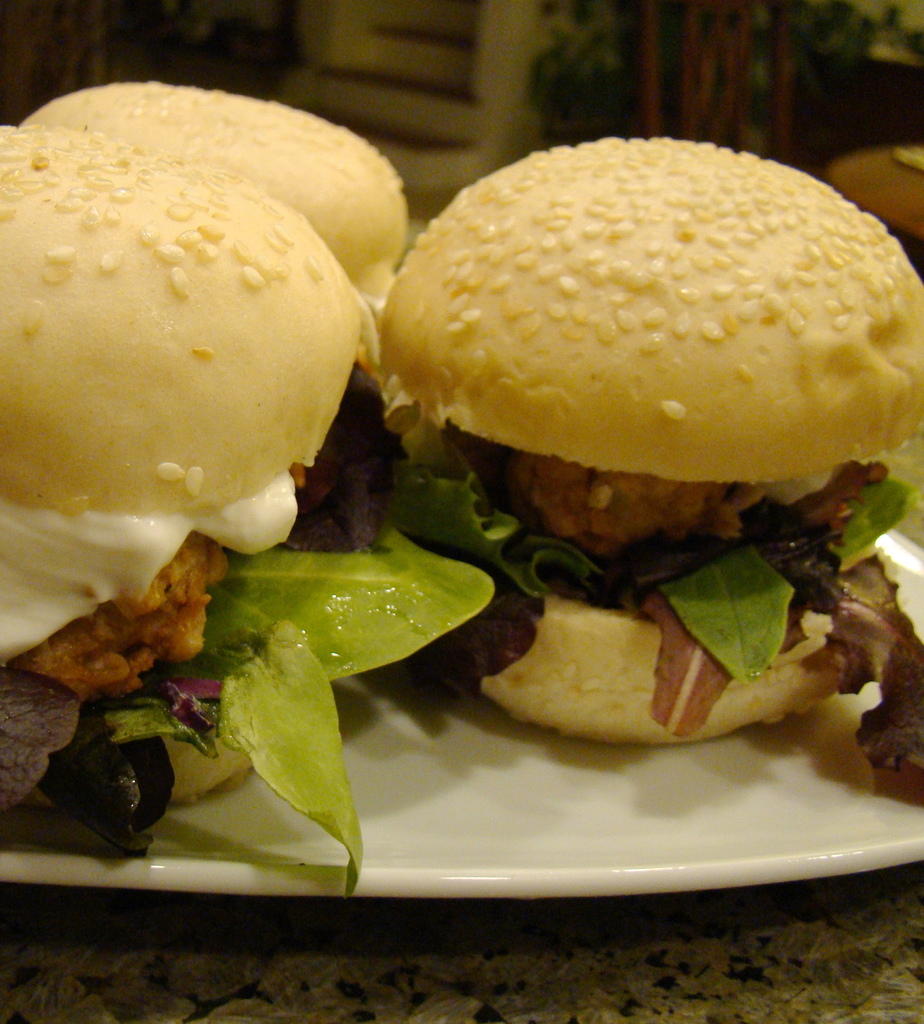Hamburger: (0, 124, 494, 901), (380, 140, 923, 742), (23, 74, 410, 315)
